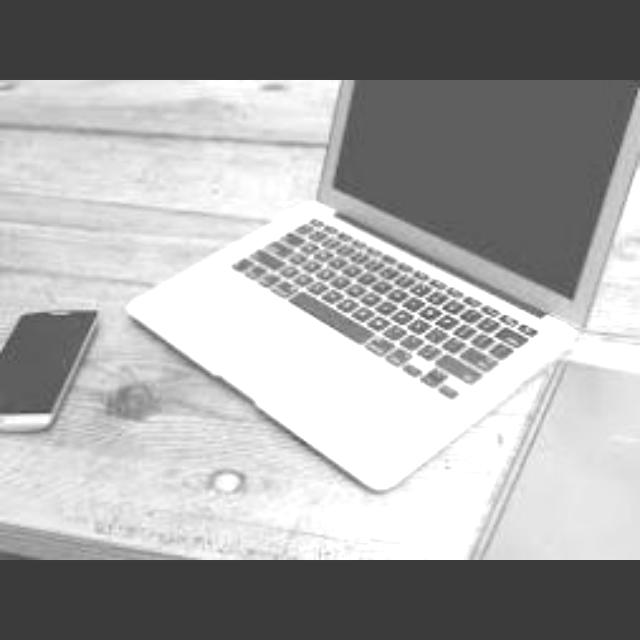fake: (0, 259, 115, 451), (1, 309, 103, 426)
